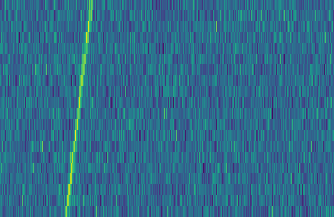signal: (59, 0, 94, 217)
